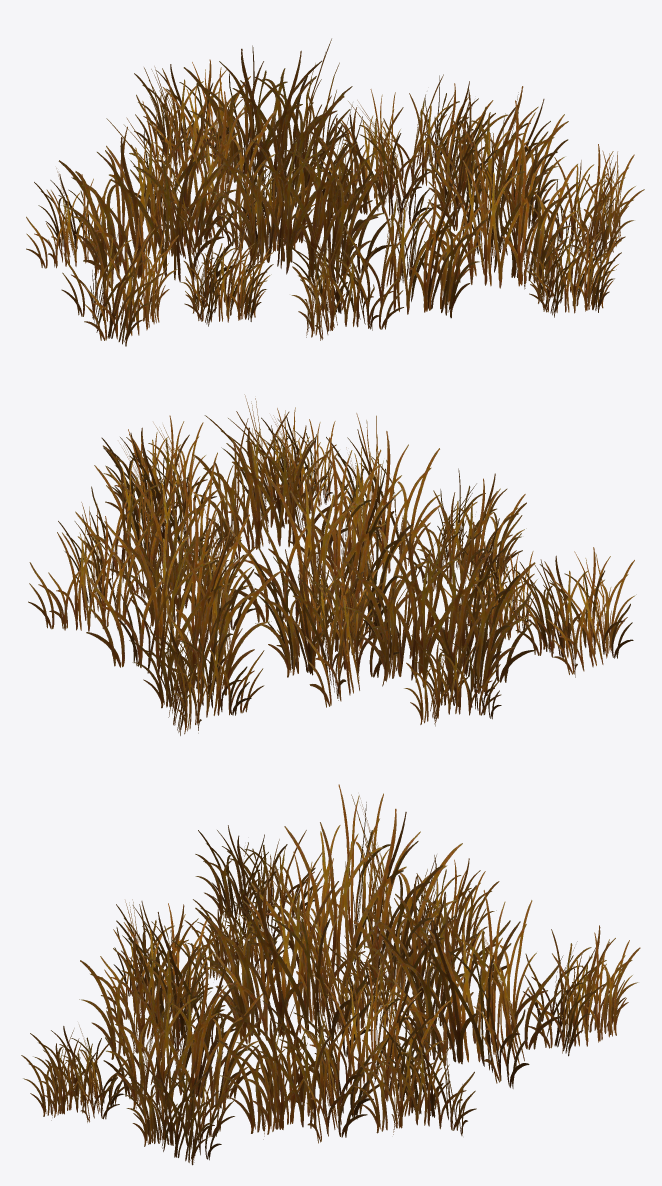
3 views of the same model, one above another, from view 1: azimuth 30°, elevation 25°; view 2: azimuth 150°, elevation 25°; view 3: azimuth 270°, elevation 25° (orthographic). The views are drawn at different scales.
Parts seen in each view (by area): view 1: SM_HL_Grass_Long_01_C_LOD0; view 2: SM_HL_Grass_Long_01_C_LOD0; view 3: SM_HL_Grass_Long_01_C_LOD0.
Part boxes in pixels (x1,y1,x2,y2): SM_HL_Grass_Long_01_C_LOD0: (26, 38, 644, 346); SM_HL_Grass_Long_01_C_LOD0: (28, 394, 636, 735); SM_HL_Grass_Long_01_C_LOD0: (21, 784, 640, 1165).
Bounding box in the file's own units: 2.66 × 0.7746 × 2.53.
Materials: 1 (1 with a texture image).
